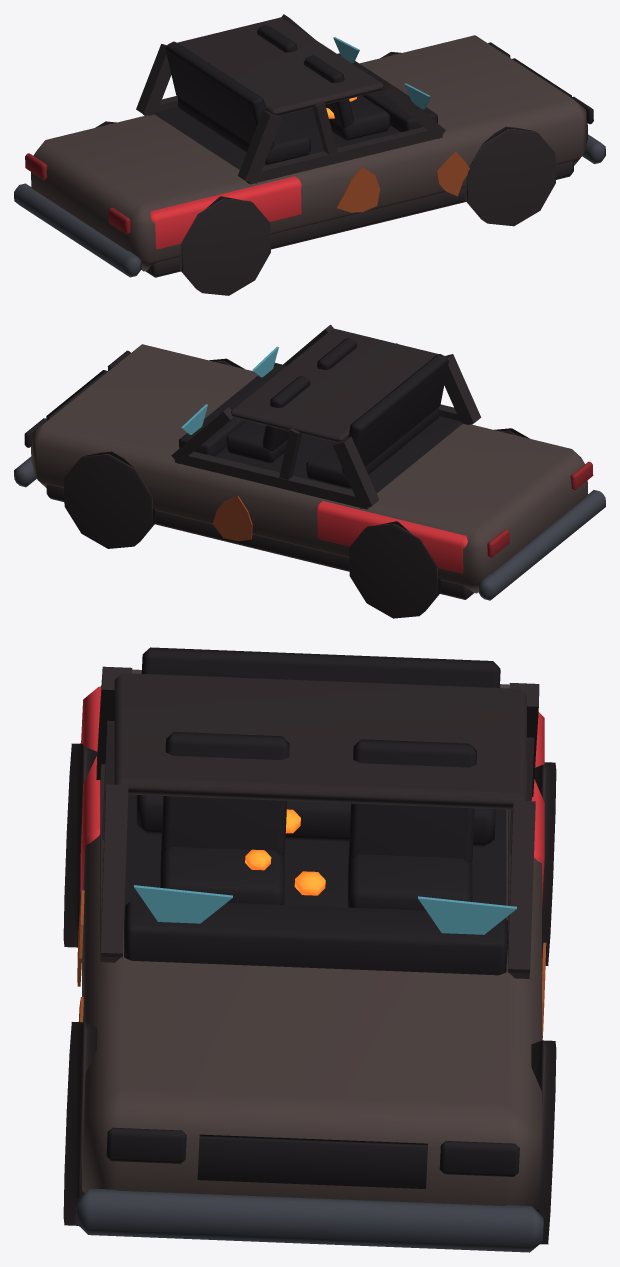
The model's file is city_car_burnt.glb.
The picture shows the model from 3 angles, top to bottom: view 1: azimuth 30°, elevation 25°; view 2: azimuth 150°, elevation 25°; view 3: azimuth 270°, elevation 25°; orthographic projection. The views are drawn at different scales.
Visible parts, largest first — view 1: CarBurnt; view 2: CarBurnt; view 3: CarBurnt.
Boxes of the visible parts, x1,y1,x2,y2 form: CarBurnt: (14, 14, 605, 295); CarBurnt: (14, 324, 605, 618); CarBurnt: (63, 647, 556, 1252).
Size of the model in its own units: 4.5 by 1.6 by 1.99.
